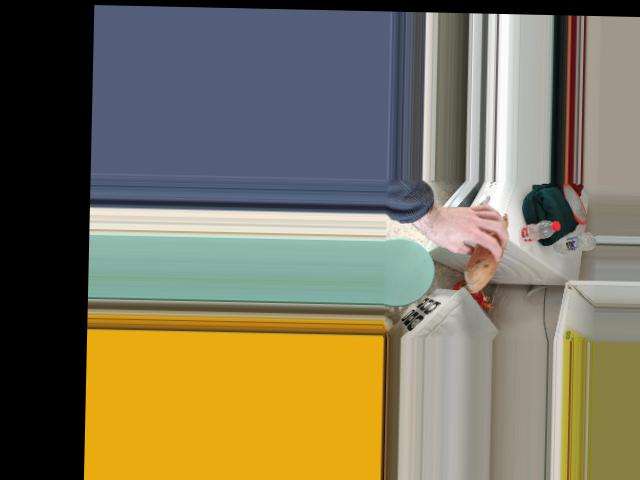sweet_potato: (470, 210, 507, 286)
